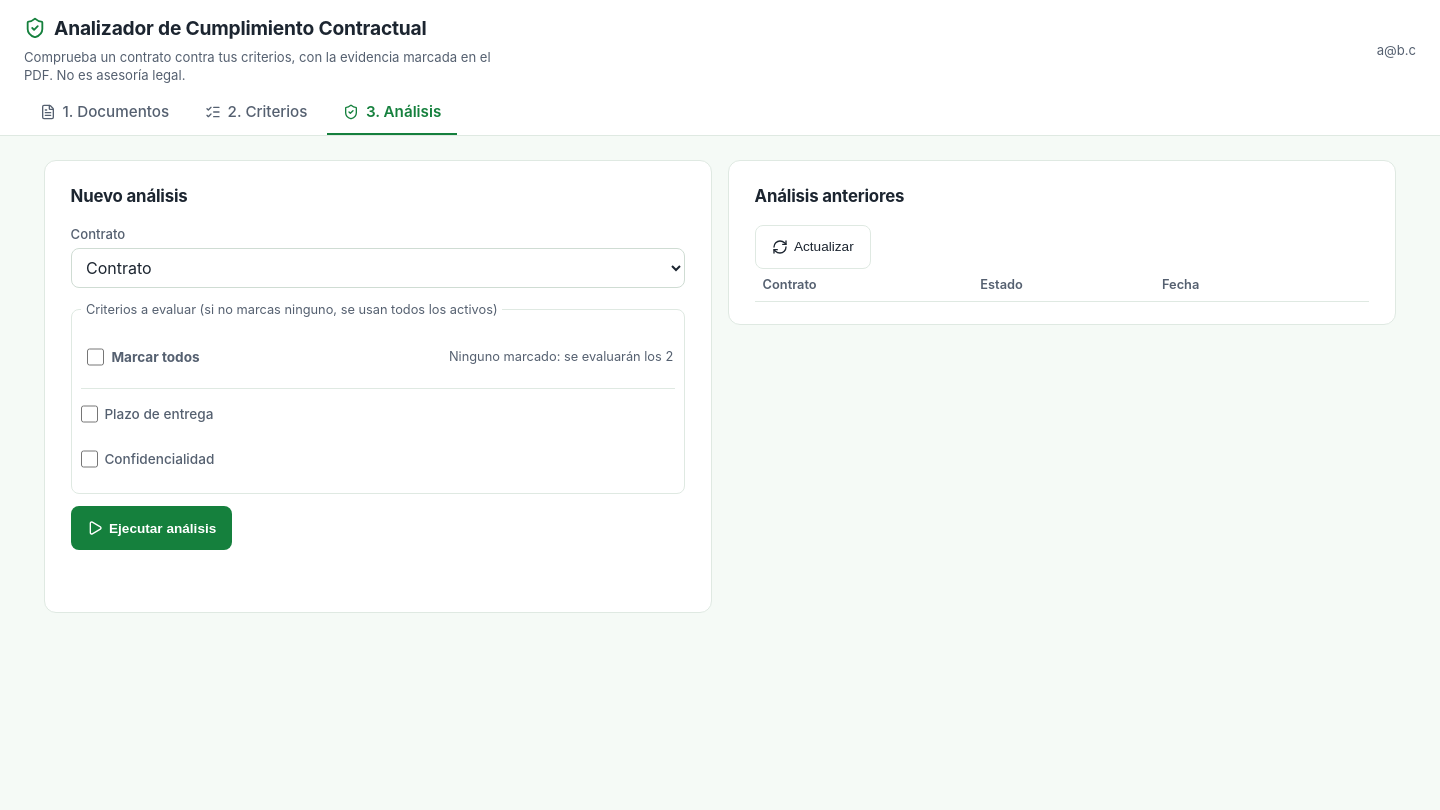
it: App › en «Criterios a evaluar» una casilla marca y desmarca todos, y avisa cuántos hay marcados
Expected: the text "Ninguno marcado: se evaluarán los 2" is shown, [449, 348, 673, 367]
Click the checkbox labelled "Marcar todos": (95,357) [87, 337, 104, 377]
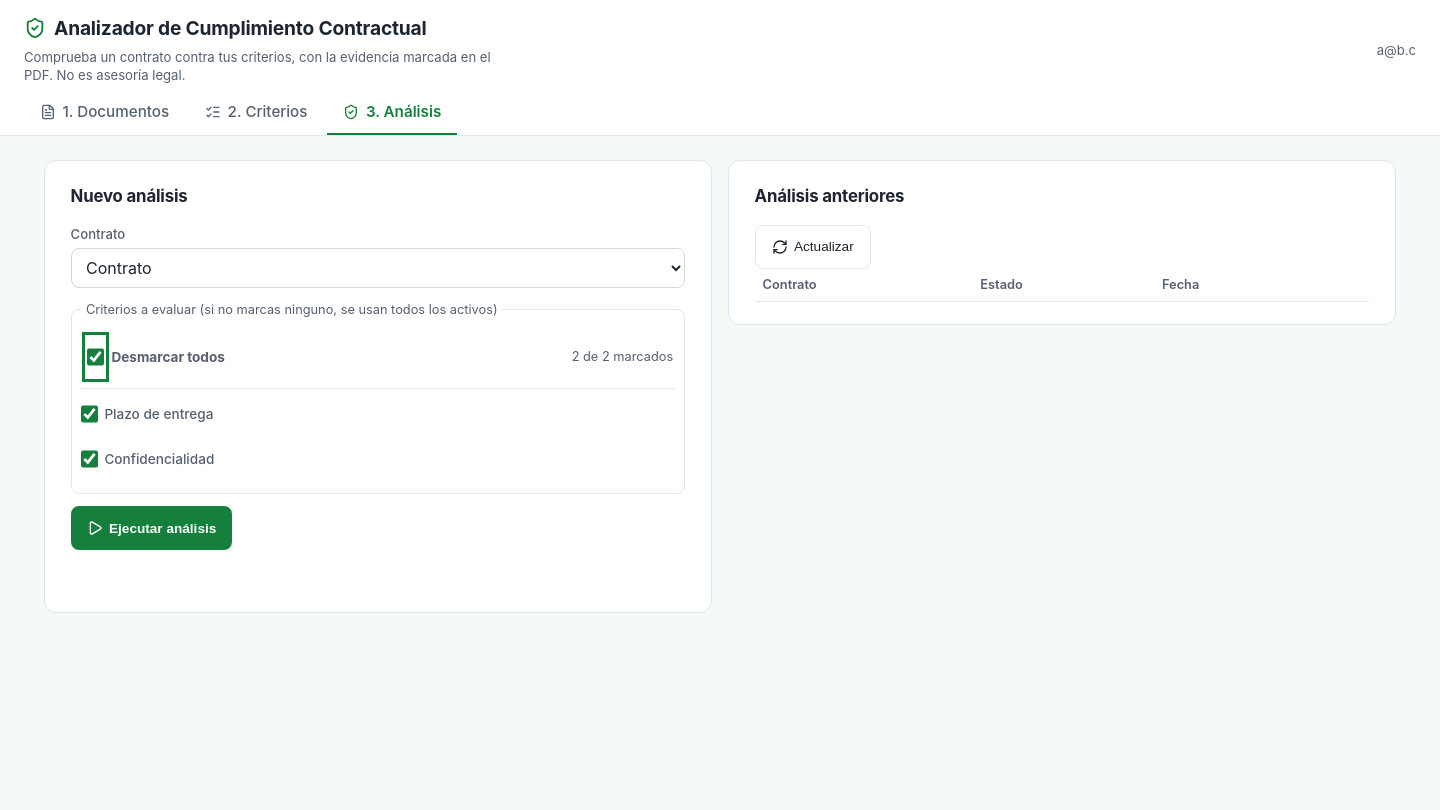
Expected: the text "2 de 2 marcados" is shown, [572, 348, 673, 367]
Expected: the checkbox labelled "Plazo de entrega" is checked, [81, 394, 98, 434]
Click the checkbox labelled "Desmarcar todos": (95,357) [87, 337, 104, 377]
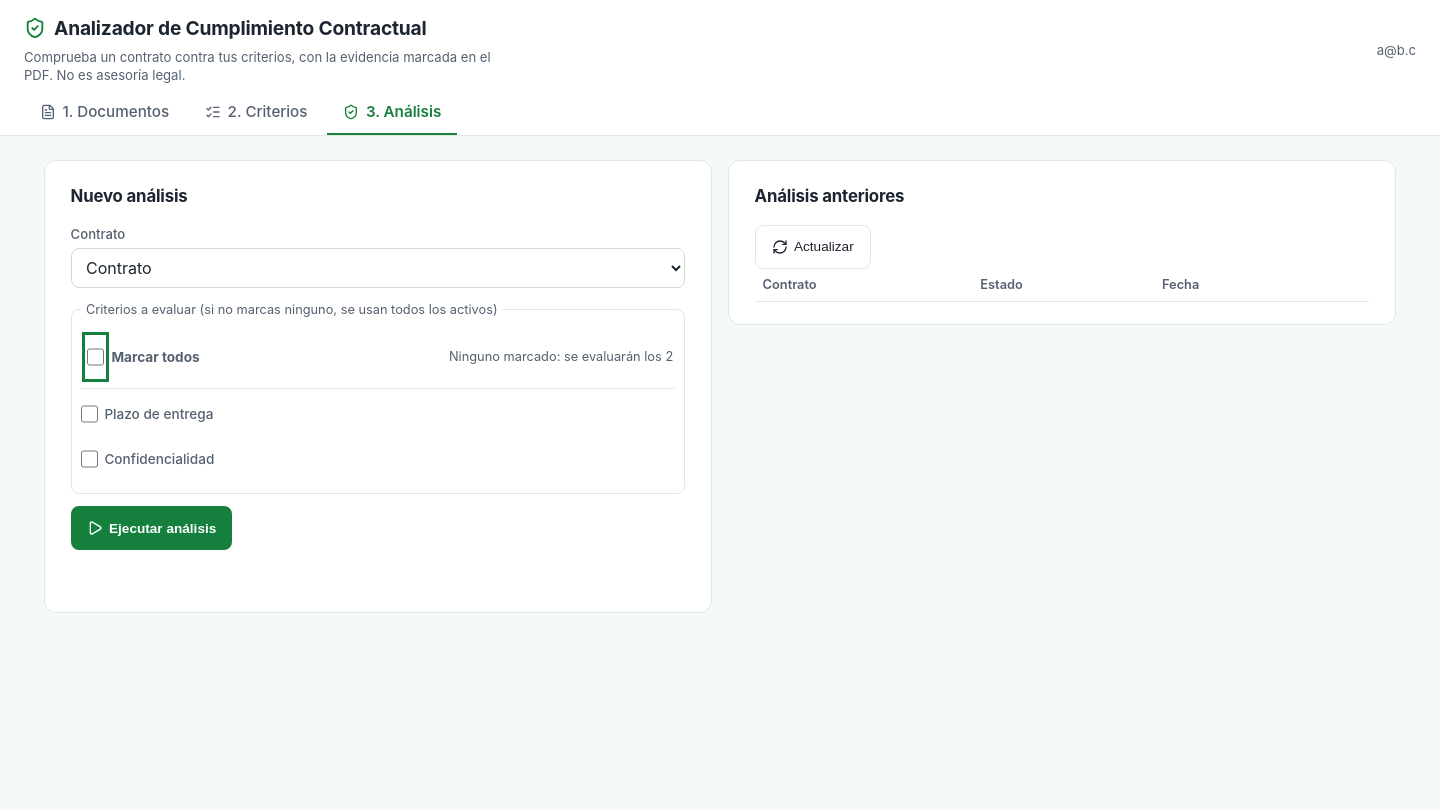
Expected: the checkbox labelled "Plazo de entrega" is not checked, [81, 394, 98, 434]
Click the checkbox labelled "Confidencialidad": (90,459) [81, 439, 98, 479]
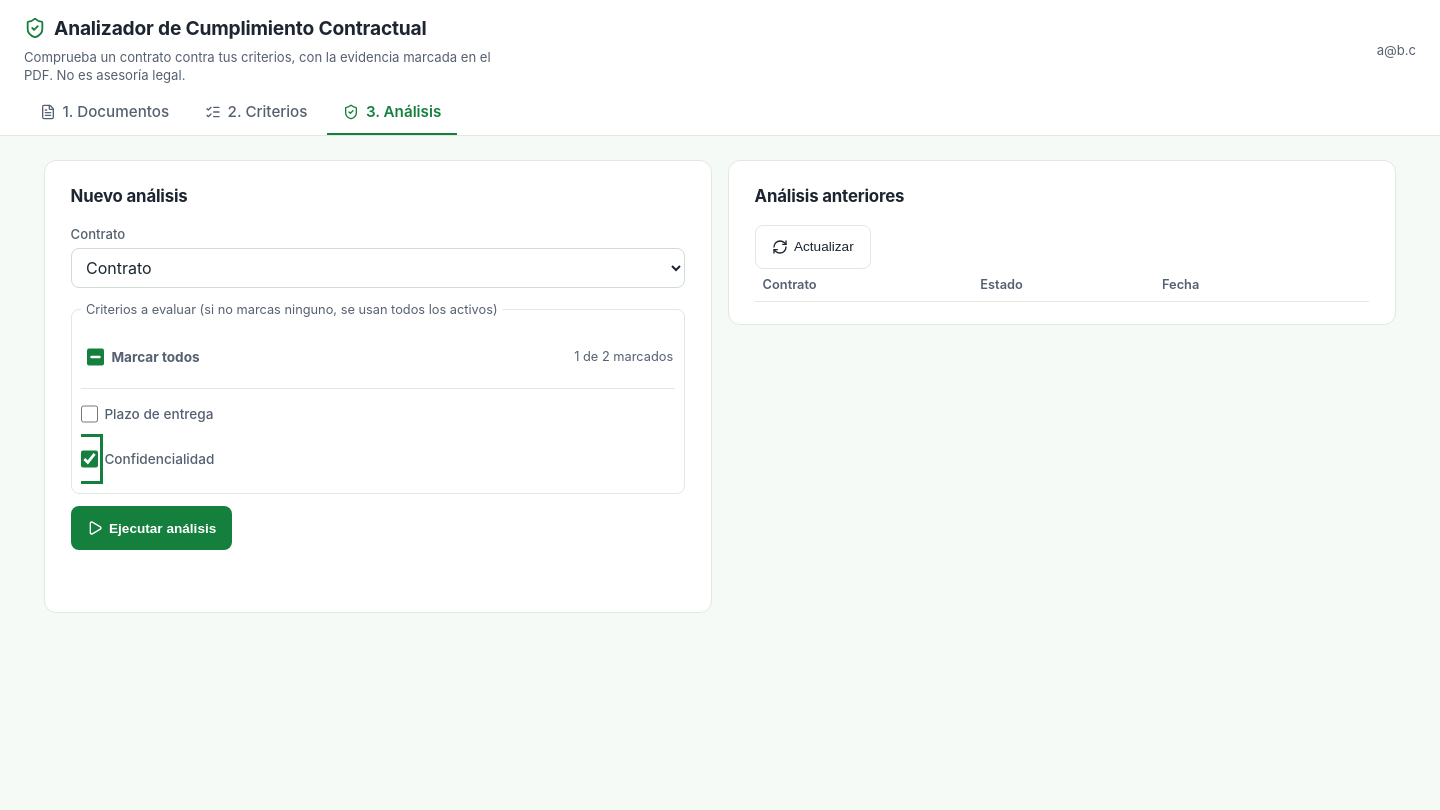
Expected: the text "1 de 2 marcados" is shown, [574, 348, 673, 367]
